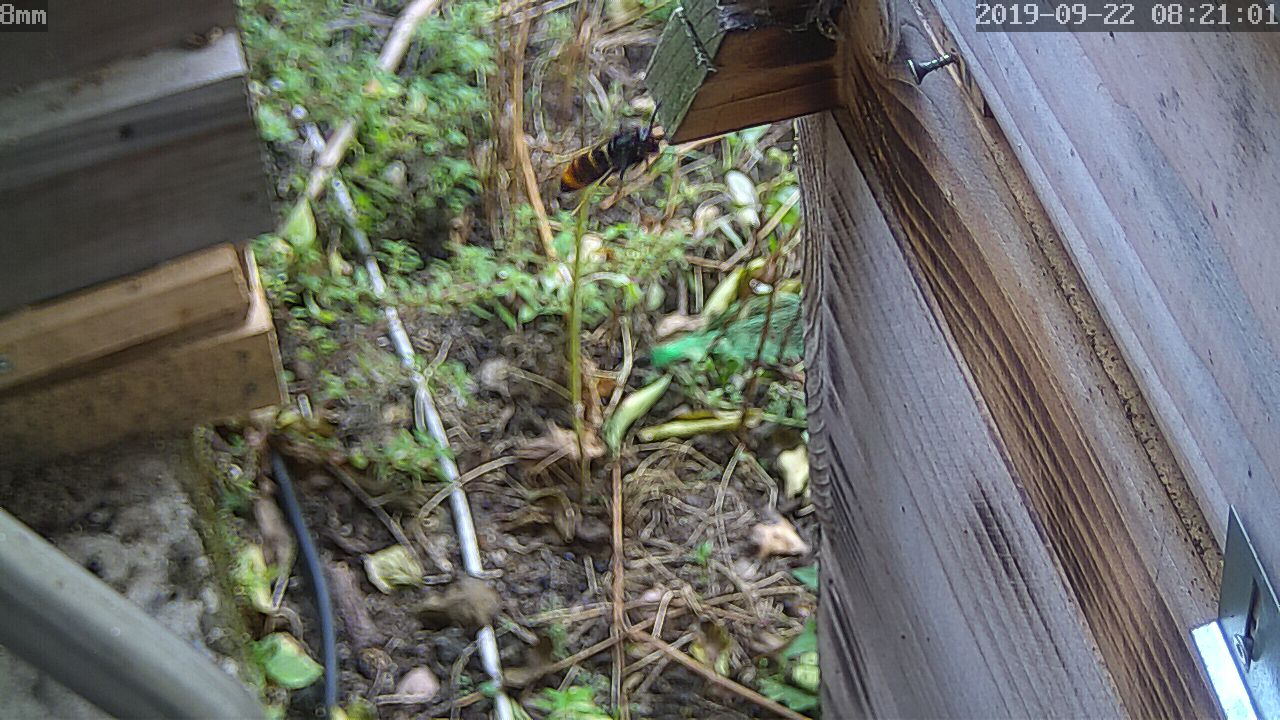hornet: (549, 115, 675, 197)
